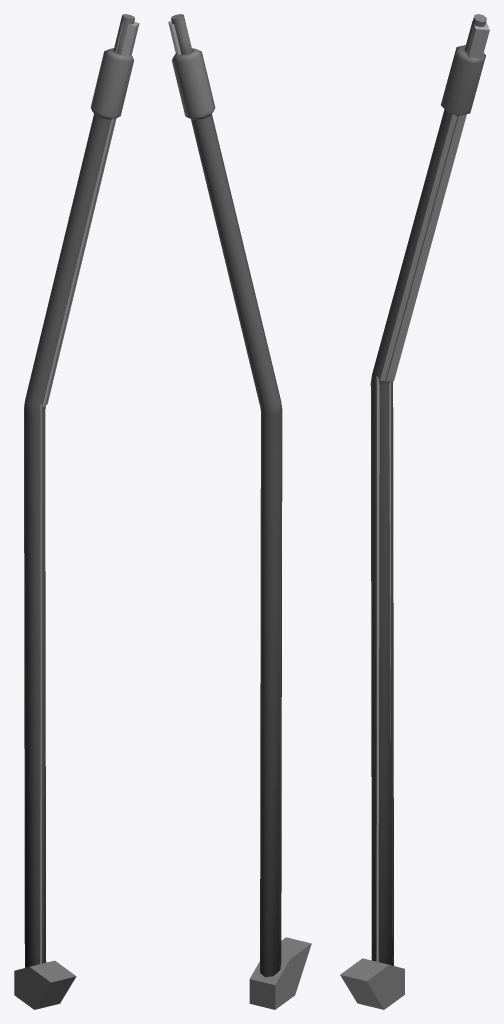
The model's file is Pioneer6_BottomAntenna.fbx.
The picture shows the model from 3 angles, left to right: view 1: azimuth 30°, elevation 25°; view 2: azimuth 150°, elevation 25°; view 3: azimuth 330°, elevation 25°; orthographic projection. The views are drawn at different scales.
Parts seen in each view (by area): view 1: pCylinder21, pCube3, pCylinder41, pCylinder40; view 2: pCylinder21, pCube3; view 3: pCylinder21, pCylinder41, pCylinder40, pCube3.
Boxes of the visible parts, left/top/right/bottom form: pCylinder21: left=24, top=14, right=134, bottom=967; pCube3: left=14, top=960, right=76, bottom=1009; pCylinder41: left=42, top=21, right=139, bottom=406; pCylinder40: left=39, top=404, right=41, bottom=963; pCylinder21: left=171, top=14, right=282, bottom=977; pCube3: left=249, top=937, right=311, bottom=1009; pCylinder21: left=370, top=14, right=486, bottom=965; pCylinder41: left=379, top=21, right=489, bottom=381; pCylinder40: left=376, top=376, right=390, bottom=961; pCube3: left=340, top=958, right=404, bottom=1009.
Bounding box in the file's own units: 0.1014 × 0.8032 × 0.0554.
2 materials, 1 textured.
